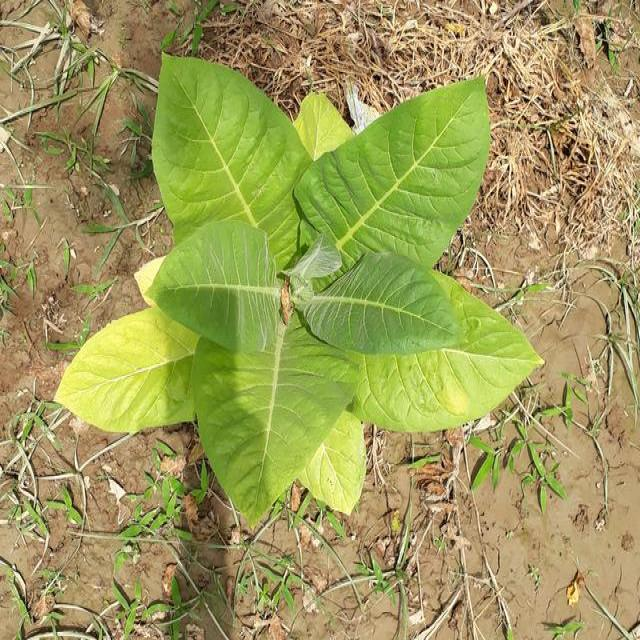crop: (58, 50, 544, 524)
